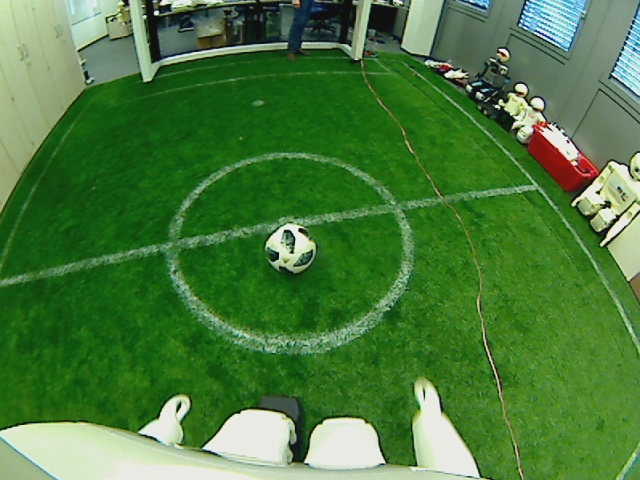ball: (262, 221, 317, 274)
